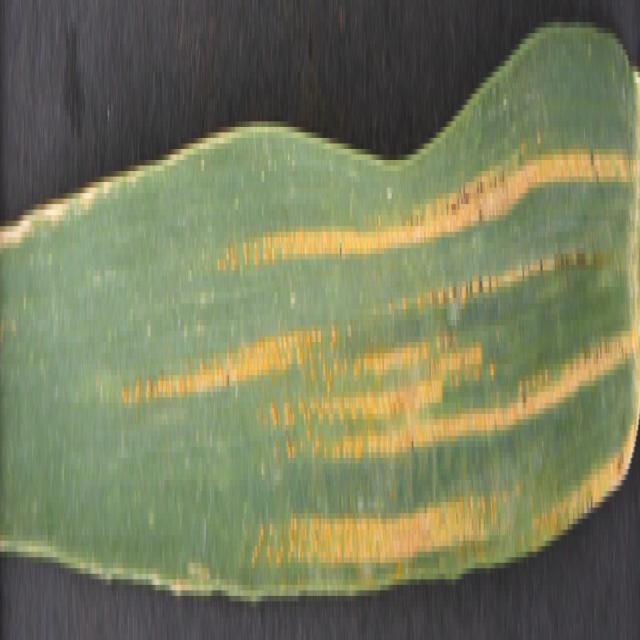leaf rust: (130, 77, 634, 618)
